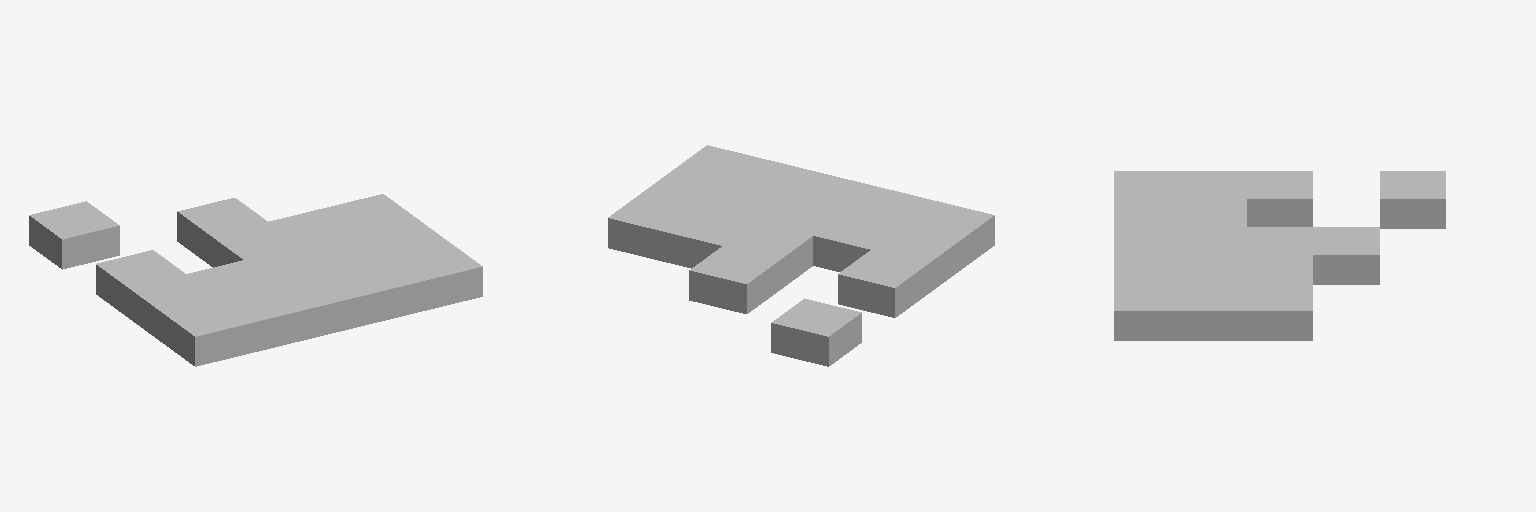
The model's file is 35f_block.obj.
3 views of the same model, side by side, from view 1: azimuth 30°, elevation 25°; view 2: azimuth 150°, elevation 25°; view 3: azimuth 270°, elevation 25° (orthographic).
Visible parts, largest first — view 1: foil.block.0.4_block.3727, foil.block.0.0_block.3724, foil.block.4.0_block.3738, foil.block.2.0_block.3731, foil.block.1.0_block.3728, foil.block.3.0_block.3735, foil.block.2.3_block.3734, foil.block.0.2_block.3726, foil.block.0.1_block.3725, foil.block.2.2_block.3733, foil.block.1.1_block.3729, foil.block.2.1_block.3732 (+4 smaller); view 2: foil.block.0.4_block.3727, foil.block.2.3_block.3734, foil.block.0.2_block.3726, foil.block.4.2_block.3740, foil.block.1.1_block.3729, foil.block.3.2_block.3737, foil.block.0.1_block.3725, foil.block.0.0_block.3724, foil.block.2.2_block.3733, foil.block.4.1_block.3739, foil.block.2.0_block.3731, foil.block.3.0_block.3735 (+4 smaller); view 3: foil.block.2.3_block.3734, foil.block.4.1_block.3739, foil.block.0.4_block.3727, foil.block.4.0_block.3738, foil.block.4.2_block.3740, foil.block.0.2_block.3726, foil.block.0.1_block.3725, foil.block.1.1_block.3729, foil.block.2.1_block.3732, foil.block.3.1_block.3736, foil.block.0.0_block.3724, foil.block.1.0_block.3728 (+4 smaller).
Boxes of the visible parts, x1,y1,x2,y2 form: foil.block.0.4_block.3727: [29, 201, 119, 269]; foil.block.0.0_block.3724: [162, 298, 252, 366]; foil.block.4.0_block.3738: [392, 242, 482, 310]; foil.block.2.0_block.3731: [277, 270, 367, 338]; foil.block.1.0_block.3728: [220, 285, 309, 352]; foil.block.3.0_block.3735: [335, 257, 424, 324]; foil.block.2.3_block.3734: [177, 198, 267, 265]; foil.block.0.2_block.3726: [96, 250, 184, 317]; foil.block.0.1_block.3725: [129, 274, 218, 341]; foil.block.2.2_block.3733: [211, 222, 300, 267]; foil.block.1.1_block.3729: [187, 260, 276, 297]; foil.block.2.1_block.3732: [244, 246, 333, 283]; foil.block.0.4_block.3727: [771, 298, 861, 366]; foil.block.2.3_block.3734: [689, 246, 779, 313]; foil.block.0.2_block.3726: [838, 250, 927, 317]; foil.block.4.2_block.3740: [608, 194, 696, 261]; foil.block.1.1_block.3729: [813, 212, 903, 271]; foil.block.3.2_block.3737: [665, 208, 754, 268]; foil.block.0.1_block.3725: [871, 226, 961, 293]; foil.block.0.0_block.3724: [904, 201, 994, 268]; foil.block.2.2_block.3733: [723, 222, 812, 289]; foil.block.4.1_block.3739: [641, 169, 730, 207]; foil.block.2.0_block.3731: [789, 173, 878, 210]; foil.block.3.0_block.3735: [732, 159, 821, 196]; foil.block.2.3_block.3734: [1313, 227, 1379, 284]; foil.block.4.1_block.3739: [1180, 283, 1246, 340]; foil.block.0.4_block.3727: [1380, 171, 1445, 228]; foil.block.4.0_block.3738: [1114, 283, 1179, 340]; foil.block.4.2_block.3740: [1247, 283, 1312, 340]; foil.block.0.2_block.3726: [1247, 171, 1312, 226]; foil.block.0.1_block.3725: [1180, 171, 1246, 198]; foil.block.1.1_block.3729: [1180, 199, 1246, 226]; foil.block.2.1_block.3732: [1180, 227, 1246, 254]; foil.block.3.1_block.3736: [1180, 255, 1246, 282]; foil.block.0.0_block.3724: [1114, 171, 1179, 198]; foil.block.1.0_block.3728: [1114, 199, 1179, 226].
Size of the model in its own units: 10 by 1 by 10.